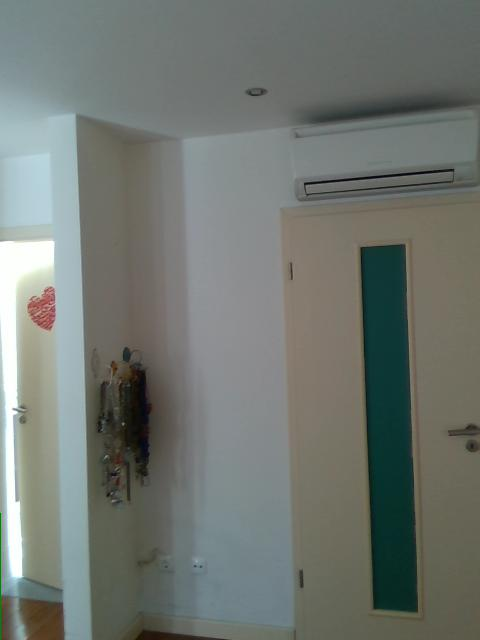door: (284, 188, 476, 636), (10, 246, 64, 594)
